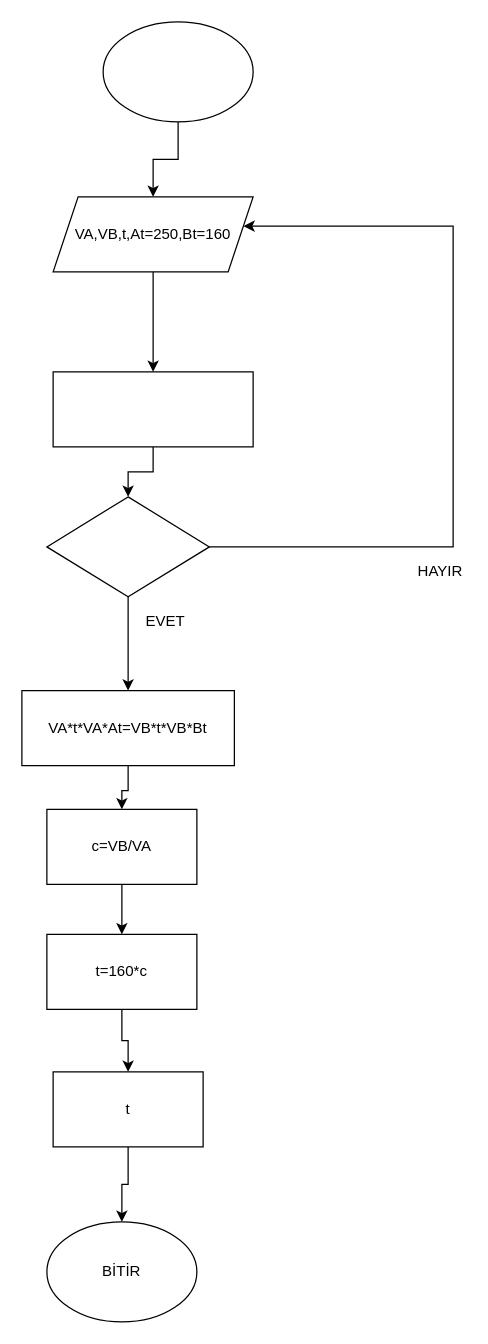
The diagram is 488 pixels wide and 1344 high, and some of its shapes have lost their labels. The centre of each missing label's shape, as x and y in pixels:
BAŞLA: point (177, 71)
Toplam1==Toplam2: point (127, 546)
Toplam1=VA*t+VB*t Toplam2=VA*At+VB*Bt: point (152, 409)
